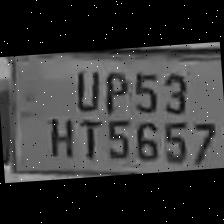3: (158, 68, 190, 116)
5: (127, 66, 160, 114), (158, 116, 188, 164), (100, 114, 131, 160)
6: (130, 116, 160, 162)
7: (186, 115, 216, 165)
H: (41, 111, 76, 159)
P: (96, 65, 130, 113)
T: (73, 114, 102, 160)
U: (67, 64, 101, 112)
